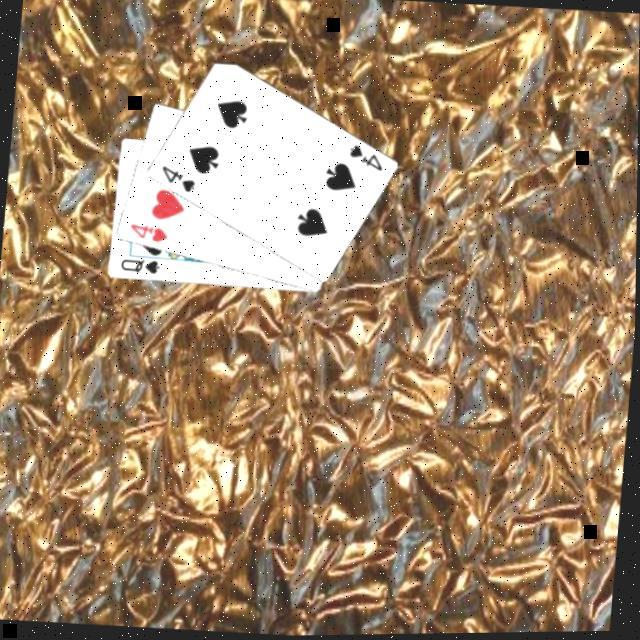4H: (124, 218, 170, 245)
4S: (154, 160, 198, 194), (342, 140, 384, 174)
QS: (115, 253, 162, 277)
